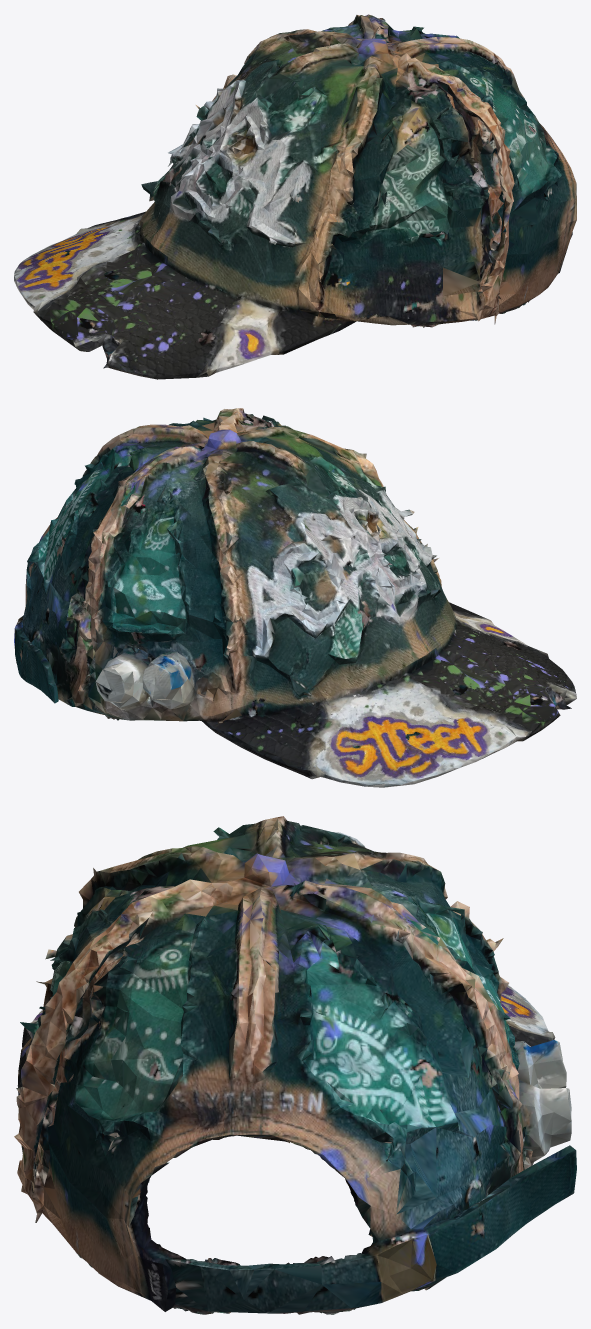
File: Cap_1.gltf
3 renders of one model, top to bottom at view 1: azimuth 30°, elevation 25°; view 2: azimuth 150°, elevation 25°; view 3: azimuth 270°, elevation 25°, orthographic. The views are drawn at different scales.
Parts seen in each view (by area): view 1: mesh.011; view 2: mesh.011; view 3: mesh.011.
Part boxes in pixels (x1,y1,x2,y2): mesh.011: (14, 14, 576, 379); mesh.011: (14, 408, 576, 787); mesh.011: (14, 816, 576, 1314).
Bounding box in the file's own units: 0.3121 × 0.1501 × 0.2173.
Materials: 1 (1 with a texture image).
